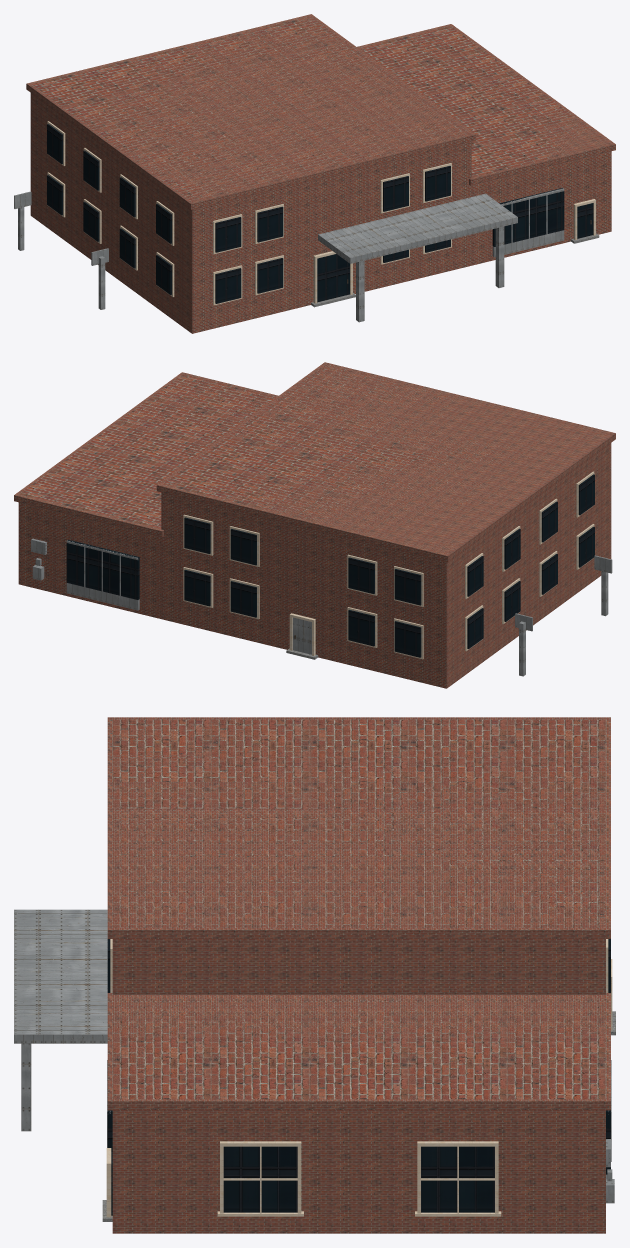
The model's file is riverside-community-center_lod0.gltf.
3 renders of one model, top to bottom at view 1: azimuth 30°, elevation 25°; view 2: azimuth 150°, elevation 25°; view 3: azimuth 270°, elevation 25°, orthographic. The views are drawn at different scales.
Visible parts, largest first — view 1: riverside-community-center_tier0, riverside-community-center__parapet_main, riverside-community-center_tier1, riverside-community-center_fen_07-glass-curtain-blue_1_t, riverside-community-center__dropoff_canopy, riverside-community-center__parapet_wing, riverside-community-center_fen_04-limestone_0, riverside-community-center_fen_14-steel-panel_4, riverside-community-center__canopy_post_b, riverside-community-center__canopy_post_a; view 2: riverside-community-center_tier0, riverside-community-center__parapet_main, riverside-community-center_tier1, riverside-community-center_fen_07-glass-curtain-blue_1_t, riverside-community-center_fen_04-limestone_0, riverside-community-center__parapet_wing, riverside-community-center_fen_14-steel-panel_4; view 3: riverside-community-center_tier0, riverside-community-center__parapet_main, riverside-community-center_tier1, riverside-community-center__parapet_wing, riverside-community-center__dropoff_canopy, riverside-community-center_fen_07-glass-curtain-blue_1_t, riverside-community-center_fen_04-limestone_0, riverside-community-center__canopy_post_b.
Boxes of the visible parts, <box> form: riverside-community-center_tier0: <box>30,16,471,333</box>; riverside-community-center__parapet_main: <box>26,14,476,209</box>; riverside-community-center_tier1: <box>358,26,611,265</box>; riverside-community-center_fen_07-glass-curtain-blue_1_t: <box>47,124,593,303</box>; riverside-community-center__dropoff_canopy: <box>318,193,517,263</box>; riverside-community-center__parapet_wing: <box>357,24,615,185</box>; riverside-community-center_fen_04-limestone_0: <box>47,121,595,305</box>; riverside-community-center_fen_14-steel-panel_4: <box>492,188,564,257</box>; riverside-community-center__canopy_post_b: <box>495,226,504,287</box>; riverside-community-center__canopy_post_a: <box>356,260,364,322</box>; riverside-community-center_tier0: <box>161,364,611,688</box>; riverside-community-center__parapet_main: <box>156,362,615,561</box>; riverside-community-center_tier1: <box>18,374,276,618</box>; riverside-community-center_fen_07-glass-curtain-blue_1_t: <box>66,474,594,657</box>; riverside-community-center_fen_04-limestone_0: <box>183,471,594,659</box>; riverside-community-center__parapet_wing: <box>14,372,278,537</box>; riverside-community-center_fen_14-steel-panel_4: <box>31,538,311,654</box>; riverside-community-center_tier0: <box>112,719,605,994</box>; riverside-community-center__parapet_main: <box>107,717,610,938</box>; riverside-community-center_tier1: <box>112,995,605,1233</box>; riverside-community-center__parapet_wing: <box>107,993,610,1110</box>; riverside-community-center__dropoff_canopy: <box>14,909,107,1043</box>; riverside-community-center_fen_07-glass-curtain-blue_1_t: <box>107,939,610,1215</box>; riverside-community-center_fen_04-limestone_0: <box>106,939,612,1217</box>; riverside-community-center__canopy_post_b: <box>21,1043,31,1131</box>.
Size of the model in its own units: 33.88 by 9 by 24.4.
